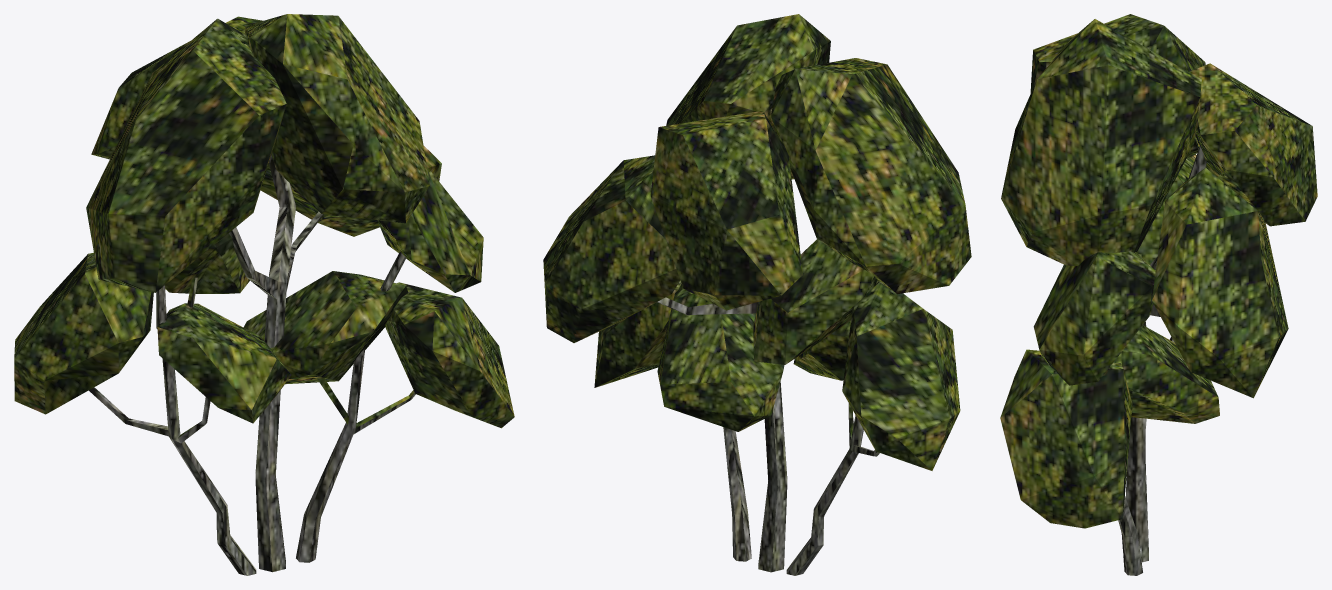
Rendered from tree_04.fbx.
The picture shows the model from 3 angles, left to right: view 1: azimuth 30°, elevation 25°; view 2: azimuth 150°, elevation 25°; view 3: azimuth 270°, elevation 25°; orthographic projection. The views are drawn at different scales.
Parts seen in each view (by area): view 1: Tree_Type5_04_fix_mesh; view 2: Tree_Type5_04_fix_mesh; view 3: Tree_Type5_04_fix_mesh.
Boxes of the visible parts, box(x1,y1,x2,y2) form: Tree_Type5_04_fix_mesh: box(14, 14, 514, 575); Tree_Type5_04_fix_mesh: box(543, 14, 971, 575); Tree_Type5_04_fix_mesh: box(1000, 14, 1317, 575).
Bounding box in the file's own units: 461 × 587 × 315.
Materials: 1 (1 with a texture image).
